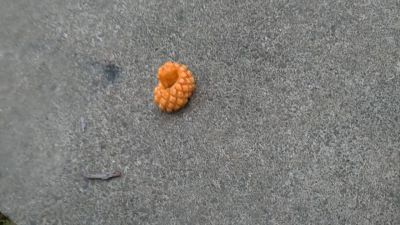eggs: (153, 59, 196, 115)
